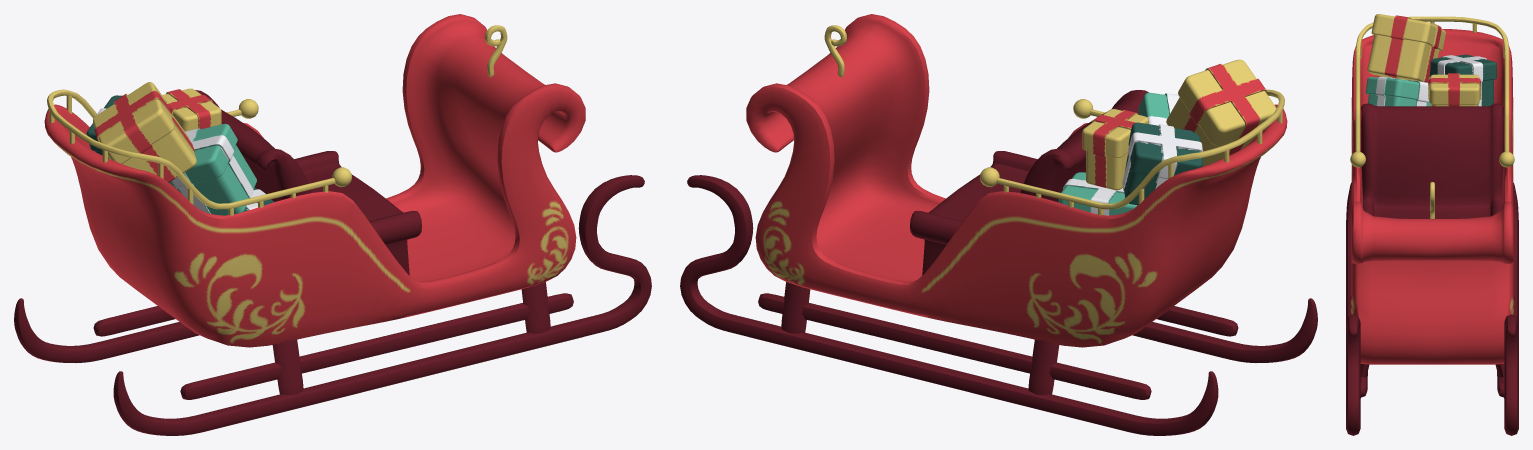
Rendered from sleigh.glb.
The picture shows the model from 3 angles, left to right: view 1: azimuth 30°, elevation 25°; view 2: azimuth 150°, elevation 25°; view 3: azimuth 270°, elevation 25°; orthographic projection. The views are drawn at different scales.
Visible parts, largest first — view 1: Object_2; view 2: Object_2; view 3: Object_2.
Boxes of the visible parts, left/top/right/bottom form: Object_2: left=14, top=14, right=651, bottom=435; Object_2: left=680, top=14, right=1317, bottom=435; Object_2: left=1346, top=14, right=1518, bottom=435.
Size of the model in its own units: 368 by 209 by 129.
1 material, 1 textured.
